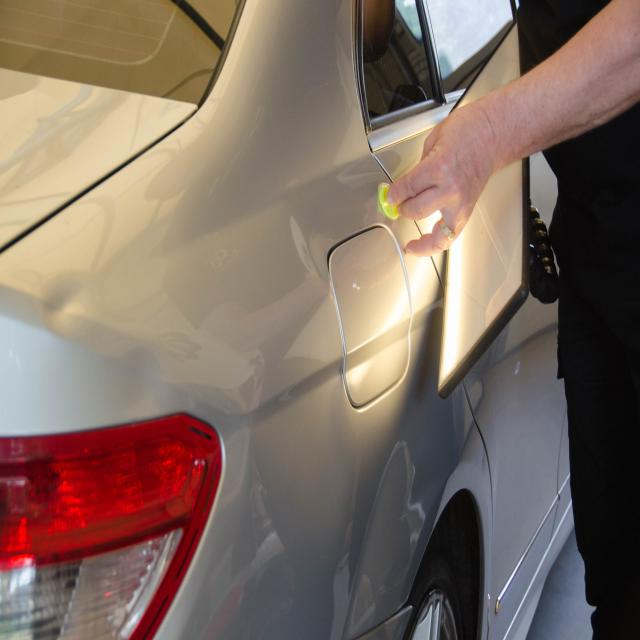dent: (35, 266, 89, 337)
